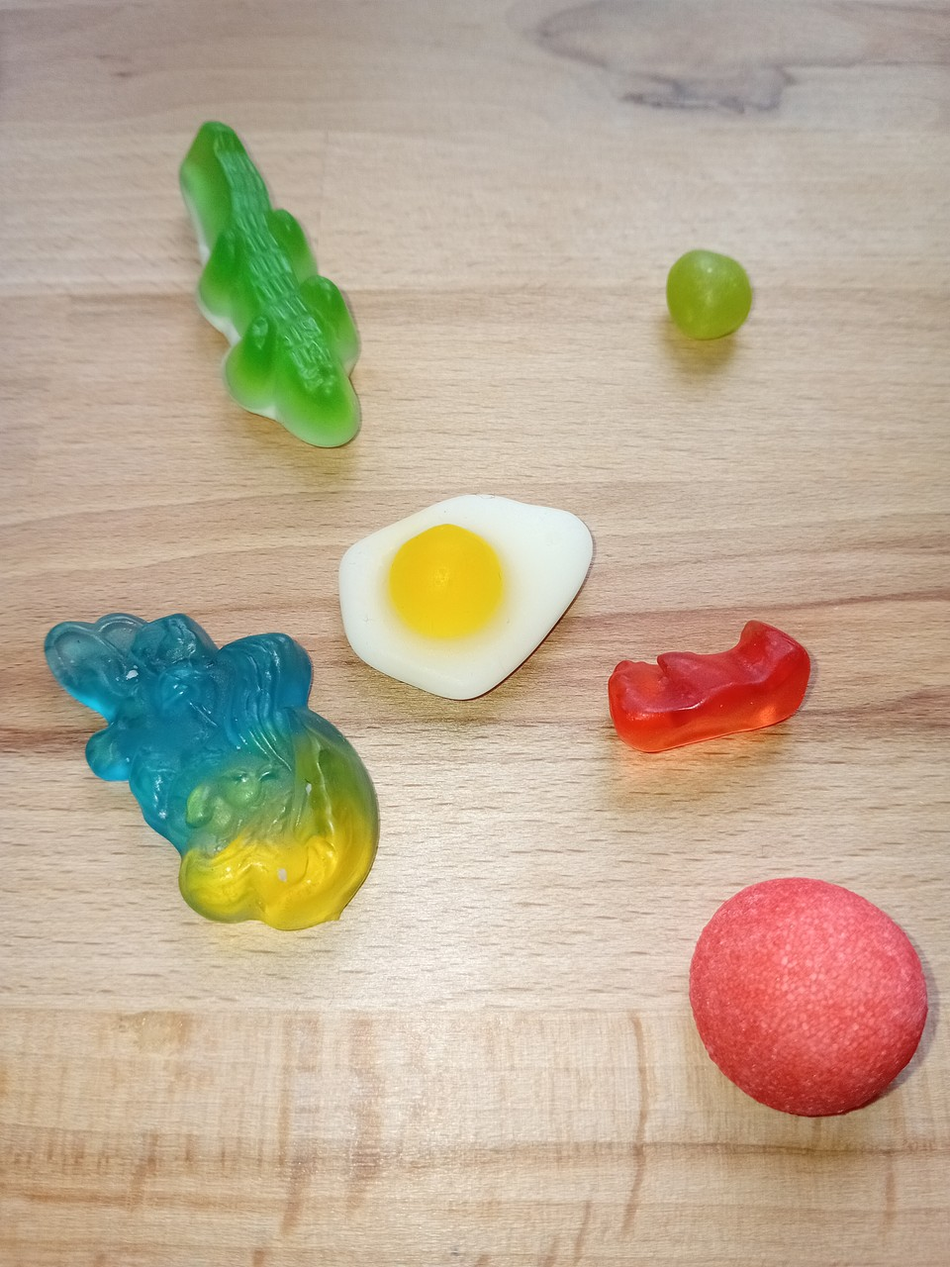crocodile_vert: (162, 112, 371, 457)
dragibus_vert: (653, 243, 763, 349)
oeuf_oeuf: (326, 491, 601, 702)
ourson_orangeFonce: (603, 616, 817, 759)
schtroumpf_bleu-jaune: (29, 603, 385, 939)
tagada_fraise: (677, 869, 934, 1118)
